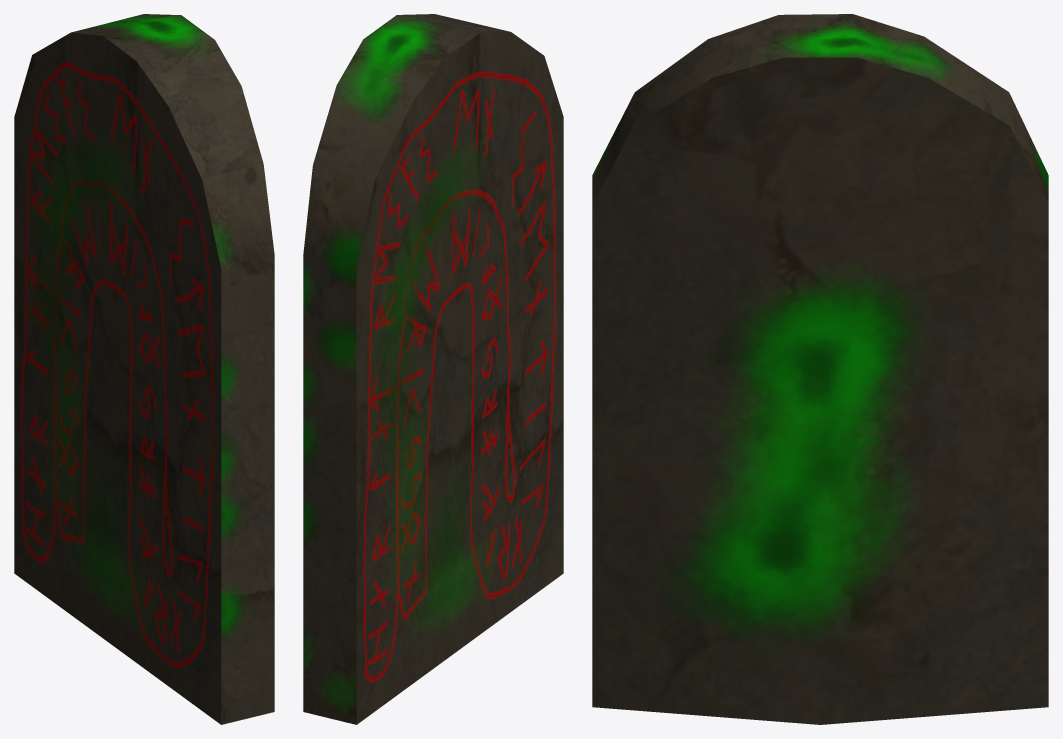
The model's file is runsten.fbx.
3 renders of one model, left to right at view 1: azimuth 30°, elevation 25°; view 2: azimuth 150°, elevation 25°; view 3: azimuth 270°, elevation 25°, orthographic. The views are drawn at different scales.
Parts seen in each view (by area): view 1: SP_Runsten; view 2: SP_Runsten; view 3: SP_Runsten.
Part boxes in pixels (bbox=[...]): SP_Runsten: bbox=[14, 14, 274, 724]; SP_Runsten: bbox=[303, 14, 563, 724]; SP_Runsten: bbox=[592, 14, 1048, 724].
Size of the model in its own units: 27.14 by 181 by 112.
